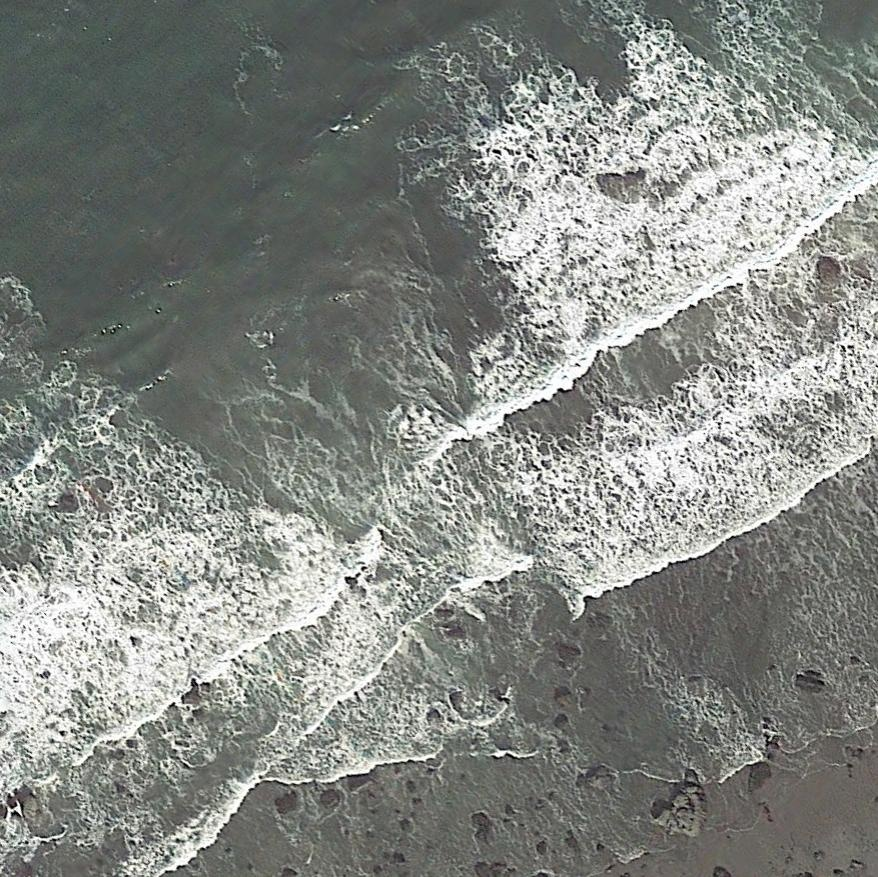rip_current: (101, 160, 546, 523)
